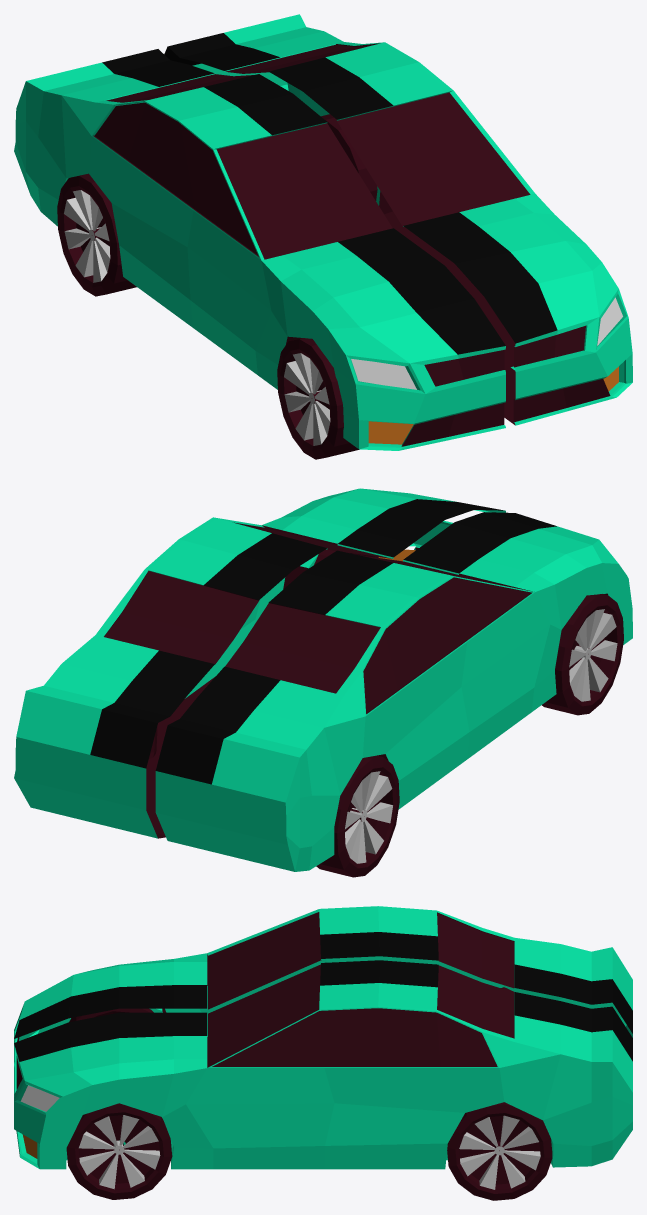
The model's file is AI CAR2.fbx.
The picture shows the model from 3 angles, top to bottom: view 1: azimuth 30°, elevation 25°; view 2: azimuth 150°, elevation 25°; view 3: azimuth 270°, elevation 25°; orthographic projection. The views are drawn at different scales.
Visible parts, largest first — view 1: Cube, Cube.001, Cube.002, Cube.003; view 2: Cube, Cube.001, Cube.002; view 3: Cube, Cube.003, Cube.004.
Part boxes in pixels (<box>): Cube: <box>14,14,632,450</box>; Cube.001: <box>277,338,359,459</box>; Cube.002: <box>57,173,136,296</box>; Cube.003: <box>321,114,377,200</box>; Cube: <box>14,488,632,871</box>; Cube.001: <box>542,594,623,715</box>; Cube.002: <box>316,755,399,877</box>; Cube: <box>14,906,632,1169</box>; Cube.003: <box>447,1102,552,1200</box>; Cube.004: <box>66,1103,172,1199</box>.
Size of the model in its own units: 198 by 435 by 145.
